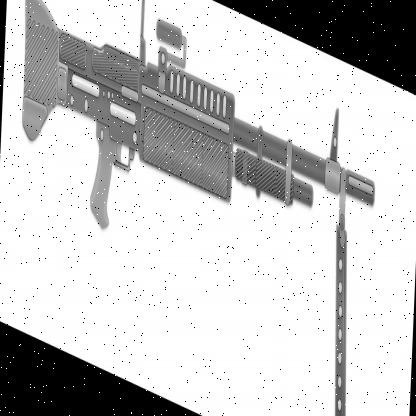rifle: (9, 0, 384, 361)
